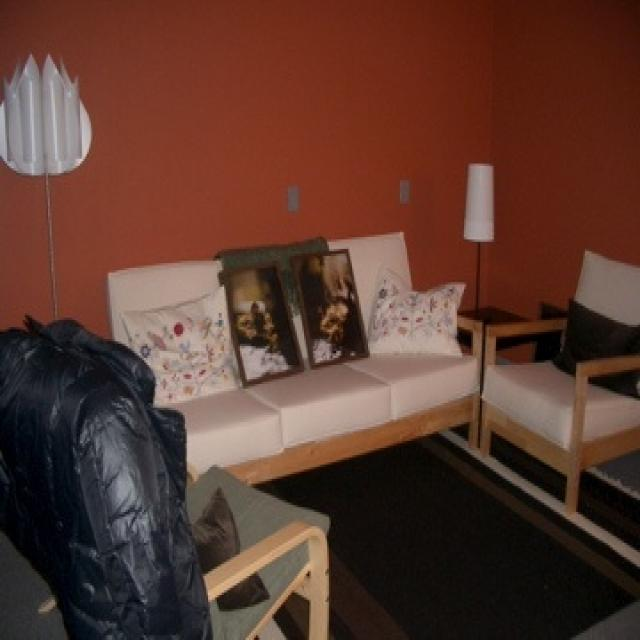chair: (9, 318, 329, 638), (478, 244, 638, 503)
sofa: (98, 242, 490, 464)
